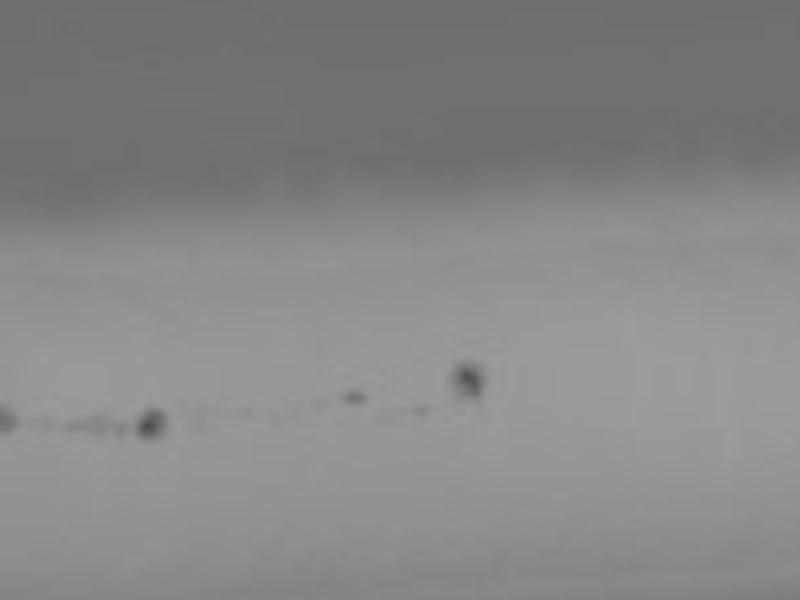defect: (448, 353, 484, 399), (138, 406, 168, 436), (85, 410, 111, 440), (1, 400, 18, 435), (342, 387, 368, 408), (406, 401, 432, 418), (63, 415, 84, 436), (111, 423, 130, 438)
